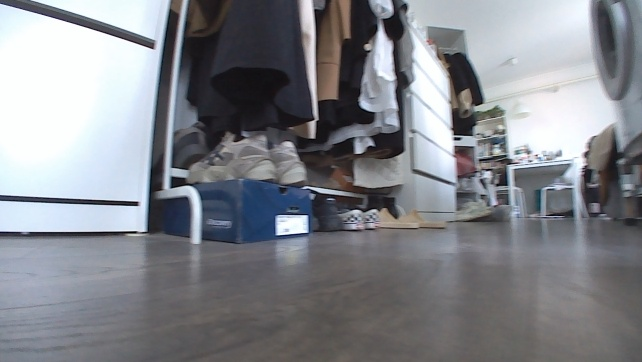cabinet: (391, 15, 461, 221)
dining_table: (479, 152, 590, 220)
refrigerator1: (0, 0, 176, 239)
shoe: (183, 130, 279, 184)
slipper: (395, 208, 447, 231), (373, 205, 420, 230)
washing_machine1: (583, 0, 641, 157)
